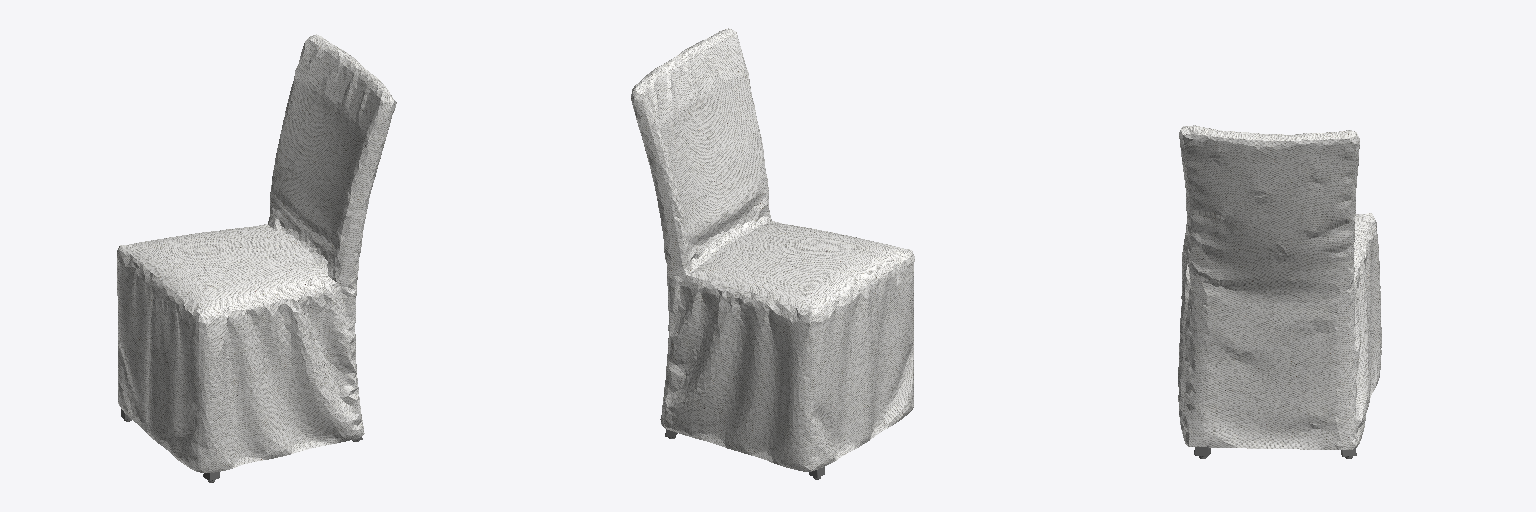
The picture shows the model from 3 angles: view 1: azimuth 30°, elevation 25°; view 2: azimuth 150°, elevation 25°; view 3: azimuth 270°, elevation 25°; orthographic projection.
Visible parts, largest first — view 1: Mesh37Cloth_Shap5skpB2C2_5Chair_Covers5Group2Group1Model1; view 2: Mesh37Cloth_Shap5skpB2C2_5Chair_Covers5Group2Group1Model1; view 3: Mesh37Cloth_Shap5skpB2C2_5Chair_Covers5Group2Group1Model1.
Boxes of the visible parts, <box> form: Mesh37Cloth_Shap5skpB2C2_5Chair_Covers5Group2Group1Model1: <box>117,34,396,482</box>; Mesh37Cloth_Shap5skpB2C2_5Chair_Covers5Group2Group1Model1: <box>631,28,914,479</box>; Mesh37Cloth_Shap5skpB2C2_5Chair_Covers5Group2Group1Model1: <box>1178,125,1381,458</box>.
Bounding box in the file's own units: 0.5648 × 0.8711 × 0.467.
2 materials, 1 textured.